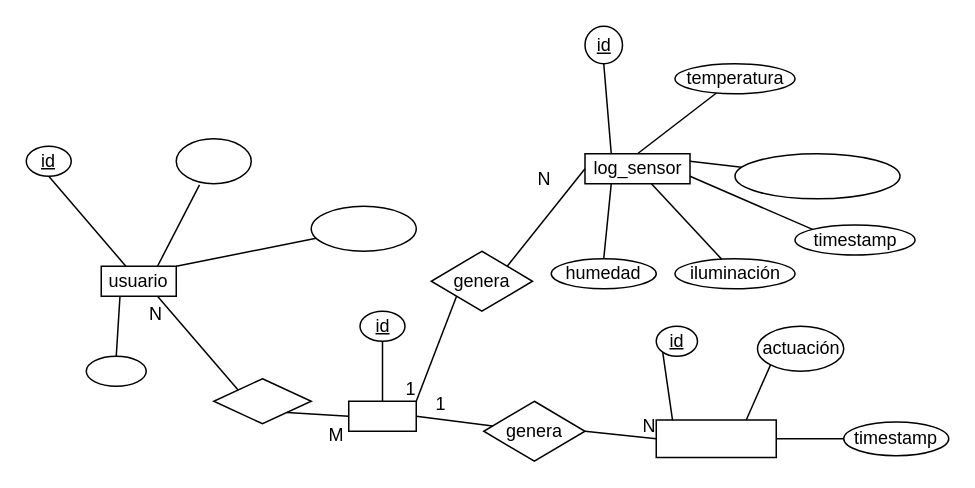
This 975x488 diagram has some shape labels left out. Here are the shapes that lost their labels. From the top down, the centre of each, then its label:
the point at 213,160: nombre
the point at 817,175: número_personas
the point at 363,228: contraseña
the point at 115,370: rol
the point at 261,400: accede
the point at 381,415: arduino
the point at 715,438: log_actuacion
